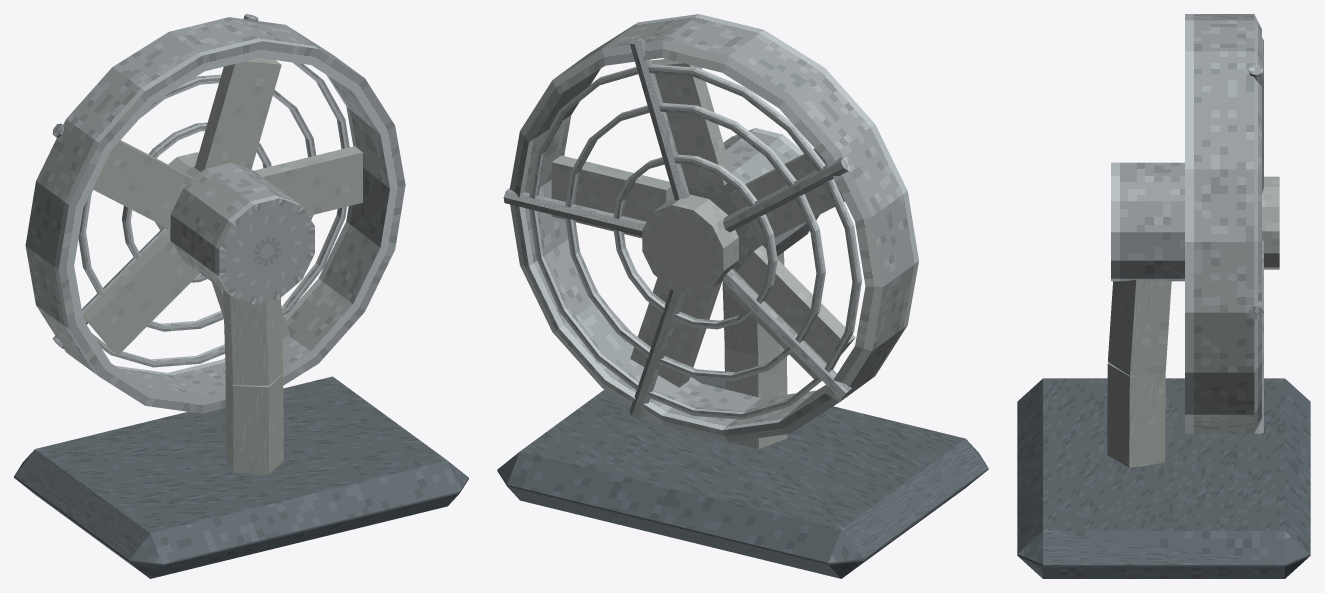
Rendered from fan.glb.
The picture shows the model from 3 angles, left to right: view 1: azimuth 30°, elevation 25°; view 2: azimuth 150°, elevation 25°; view 3: azimuth 270°, elevation 25°; orthographic projection. The views are drawn at different scales.
Parts seen in each view (by area): view 1: block_counterweighted base, block_fan outer cage, block_impeller paddles (×4), block_drive housing, block_circular wire guard (×3), block_vertical stand 0, block_vertical stand 1; view 2: block_counterweighted base, block_fan outer cage, block_circular wire guard (×3), block_impeller paddles (×5), block_radial wire or spoke (×5), block_center cap, block_drive housing, block_vertical stand 0, block_vertical stand 1; view 3: block_counterweighted base, block_fan outer cage, block_drive housing, block_vertical stand 1, block_vertical stand 0, block_center cap, block_radial wire or spoke.
Part boxes in pixels (box(x1,y1,x2,y2)): block_counterweighted base: box(14, 376, 468, 578); block_fan outer cage: box(25, 17, 405, 413); block_impeller paddles (×4): box(82, 58, 362, 354); block_drive housing: box(170, 162, 314, 304); block_circular wire guard (×3): box(78, 62, 349, 367); block_vertical stand 0: box(225, 372, 283, 474); block_vertical stand 1: box(223, 290, 283, 385); block_counterweighted base: box(497, 378, 988, 578); block_fan outer cage: box(509, 14, 918, 442); block_circular wire guard (×3): box(529, 64, 861, 419); block_impeller paddles (×5): box(551, 59, 855, 387); block_radial wire or spoke (×5): box(503, 38, 851, 418); block_center cap: box(642, 194, 738, 294); block_drive housing: box(688, 128, 819, 271); block_vertical stand 0: box(724, 346, 787, 449); block_vertical stand 1: box(722, 252, 784, 356); block_counterweighted base: box(1017, 378, 1310, 578); block_fan outer cage: box(1185, 14, 1261, 433); block_drive housing: box(1111, 162, 1184, 281); block_vertical stand 1: box(1108, 279, 1171, 375); block_vertical stand 0: box(1107, 363, 1165, 467); block_center cap: box(1262, 176, 1279, 269); block_radial wire or spoke: box(1248, 65, 1263, 193).
Bounding box in the file's own units: 0.4184 × 0.512 × 0.2911.
Materials: 1 (1 with a texture image).
